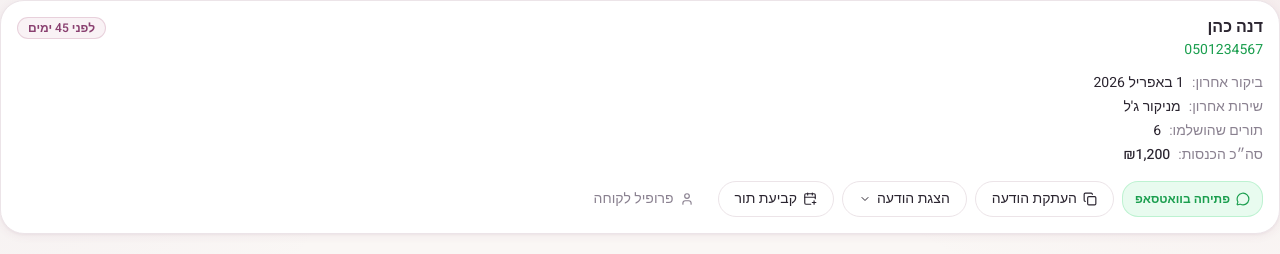
Test: WinBackClientCard › copies the generated message to the clipboard and shows confirmation
Click the button "העתקת הודעה": click(1044, 199) top-left (975, 181), bottom-right (1114, 217)
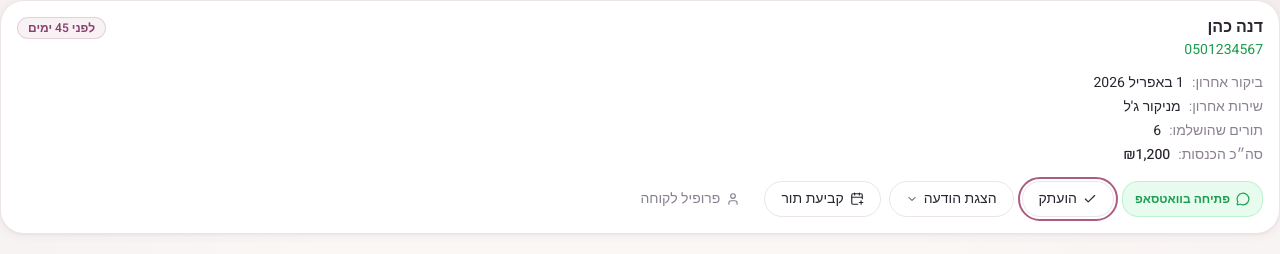
Check: the button "הועתק" is shown, box top-left (1022, 181), bottom-right (1114, 217)
